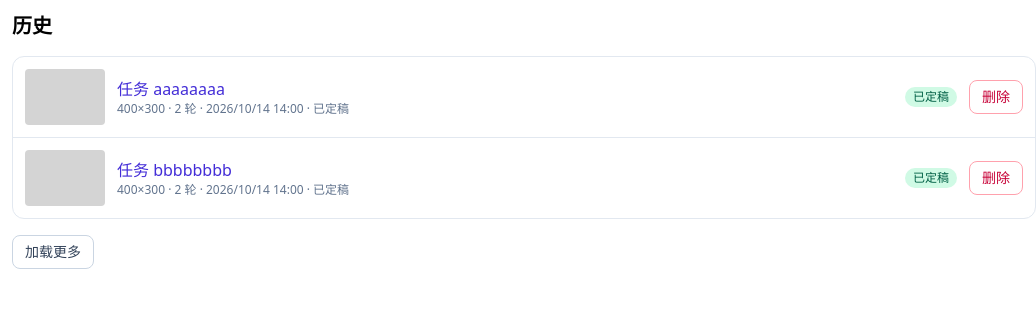
lists tasks and loads more with the cursor
Expected: the text "400×300 · 2 轮 · 2026/10/14 14:00 · 已定稿" is shown 2 times, [117,100,349,117]; [117,181,349,198]
Click the button "加载更多" at (53, 252), box [12,235,94,269]
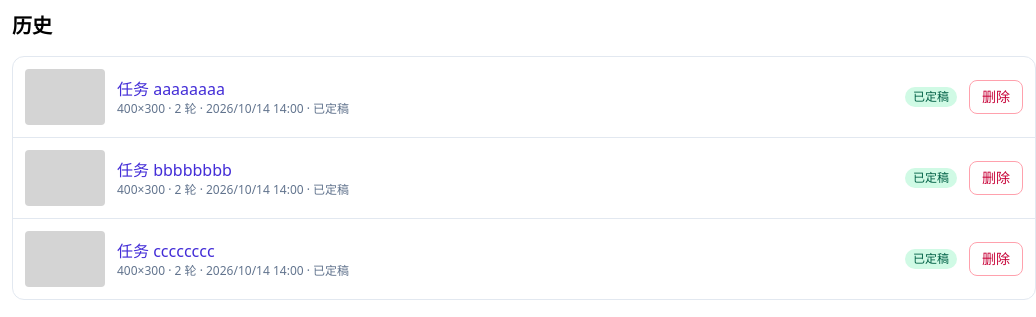
Result: the link "任务 cccccccc" is shown at [117,240,215,262]
